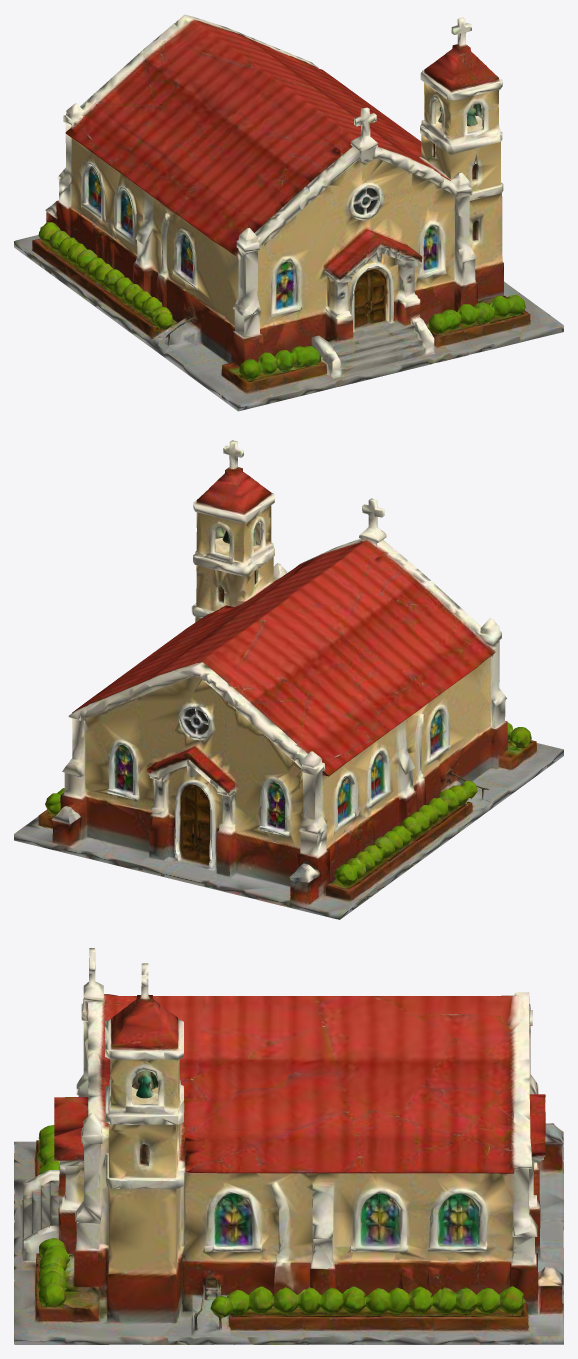
The model's file is church.glb.
3 renders of one model, top to bottom at view 1: azimuth 30°, elevation 25°; view 2: azimuth 150°, elevation 25°; view 3: azimuth 270°, elevation 25°, orthographic. The views are drawn at different scales.
Bounding box in the file's own units: 1.6 × 1.34 × 1.9.
Materials: 1 (1 with a texture image).
